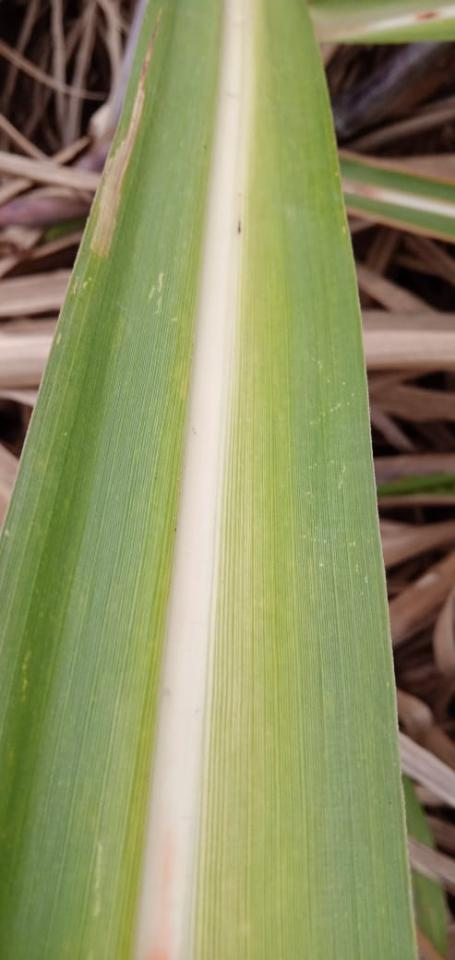RedRot: (142, 826, 178, 959)
Yellow: (193, 69, 309, 959), (66, 233, 208, 959)
